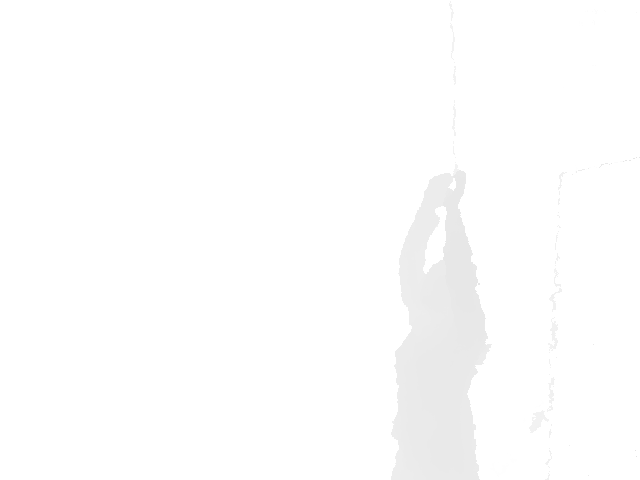hand: (437, 167, 470, 207), (420, 171, 452, 211)
head: (425, 259, 460, 309)
person: (389, 167, 494, 480)
